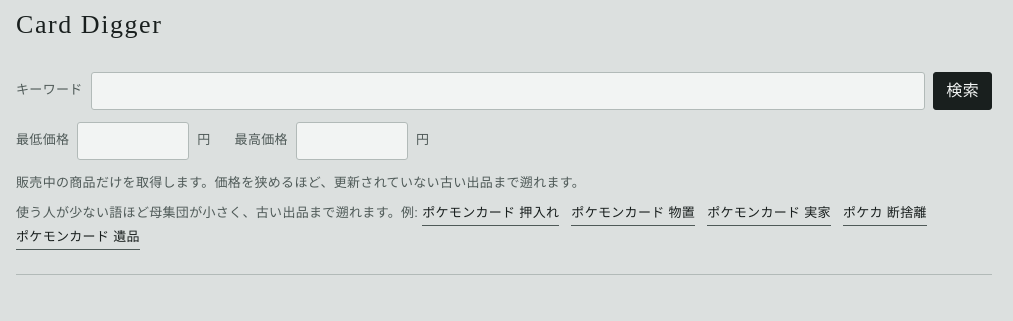
Test case: input errors › does not collect when the keyword is blank, and says what to do
Click the button "検索" at (963, 90), box [933,72,992,110]
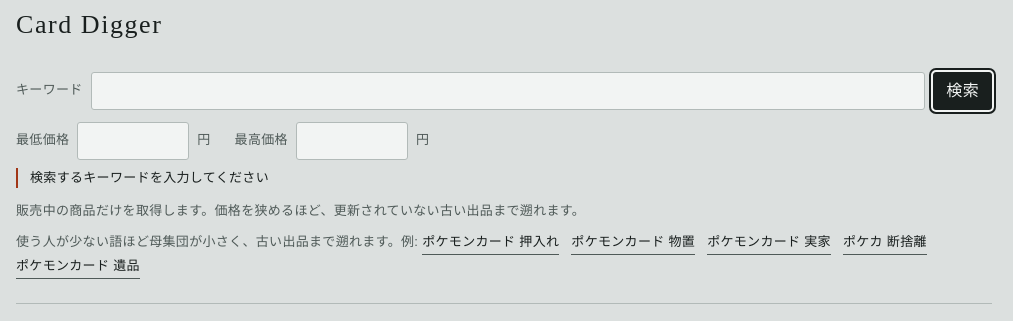
Check: the message shows "キーワード", box [30,170,269,184]
